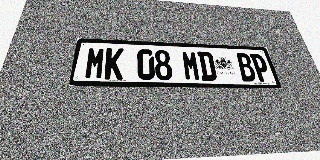0: (137, 49, 155, 80)
8: (154, 50, 173, 80)
B: (235, 53, 257, 81)
D: (197, 51, 218, 81)
K: (104, 48, 124, 80)
M: (84, 47, 106, 79), (181, 51, 201, 81)
P: (249, 53, 272, 82)
